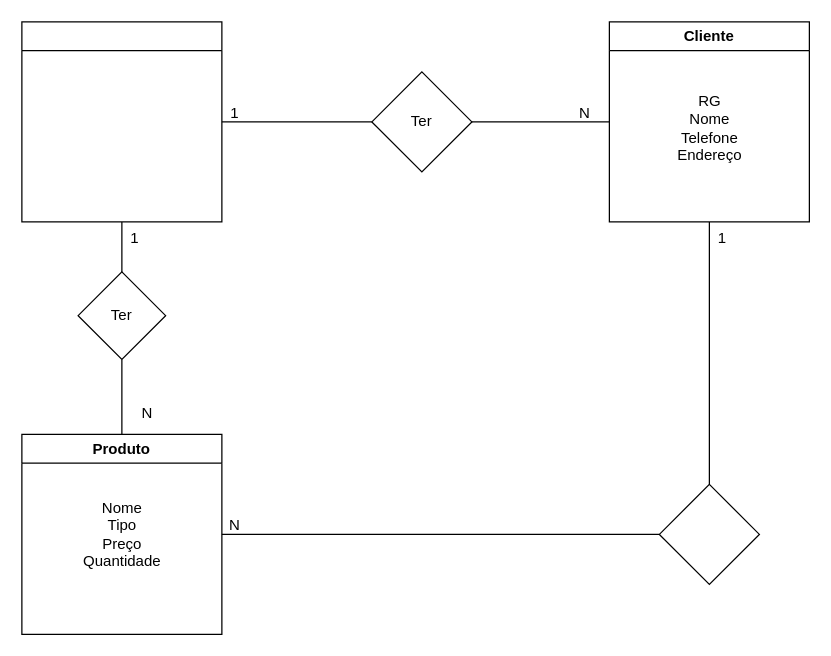
This 831x656 diagram has some shape labels left out. Here are the shapes that lost their labels. From the top down, the centre of each, then its label:
the point at 121,121: Floricultura
the point at 708,533: Compra
